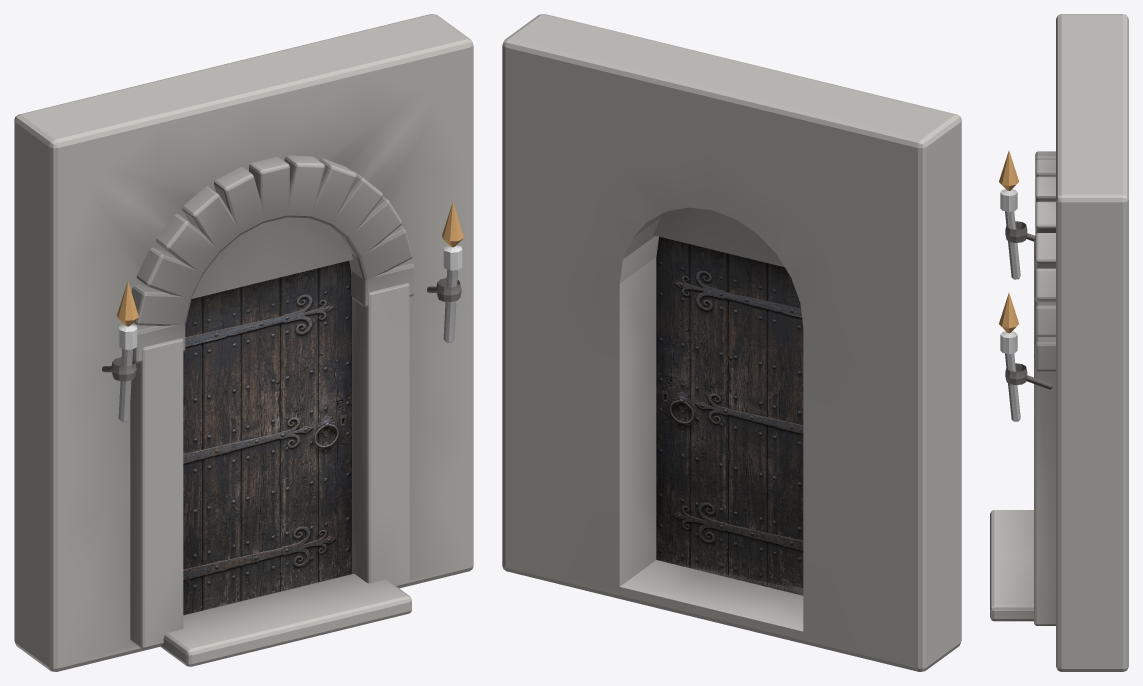
The model's file is crypt_stair.glb.
3 renders of one model, left to right at view 1: azimuth 30°, elevation 25°; view 2: azimuth 150°, elevation 25°; view 3: azimuth 270°, elevation 25°, orthographic. The views are drawn at different scales.
Visible parts, largest first — view 1: bracket; view 2: bracket; view 3: bracket.
Part boxes in pixels (box(x1,y1,x2,y2)): bracket: box(14, 14, 473, 671); bracket: box(502, 14, 961, 671); bracket: box(990, 14, 1128, 671).
Size of the model in its own units: 3 by 3.6 by 0.95.
5 materials, 1 textured.
